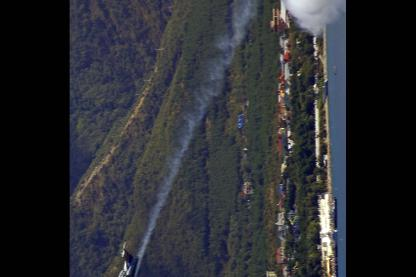B52: (112, 240, 140, 275)
